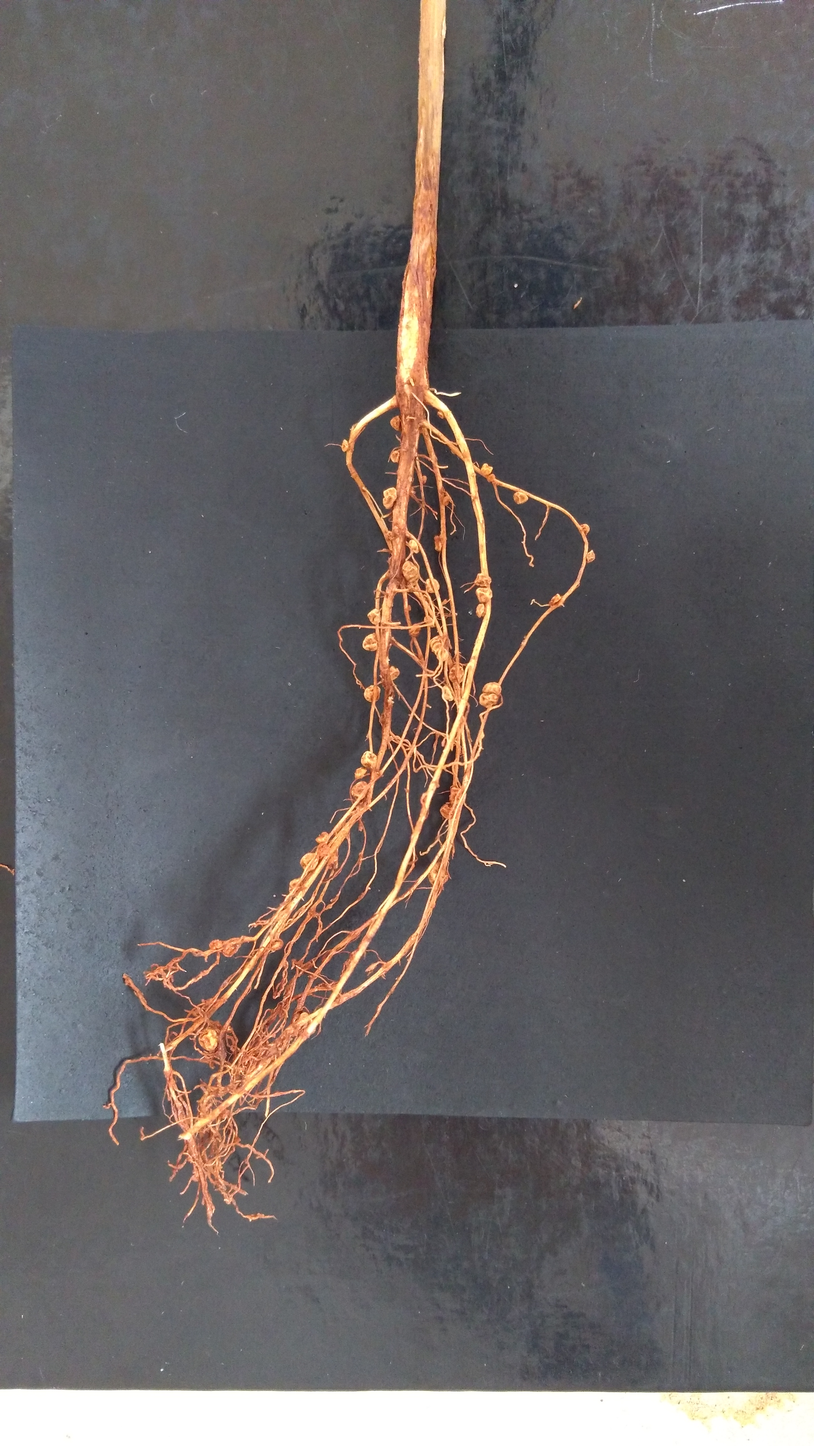nodule: (479, 681, 502, 706), (429, 636, 451, 662), (428, 861, 449, 886), (248, 1034, 269, 1059), (191, 1158, 211, 1183), (198, 1029, 218, 1051), (297, 1011, 315, 1035), (208, 1082, 235, 1098), (402, 561, 419, 586), (350, 781, 370, 802), (221, 938, 242, 957), (299, 853, 319, 872), (382, 487, 397, 509), (362, 633, 379, 652), (448, 665, 465, 684), (360, 750, 377, 769), (289, 878, 305, 898), (448, 786, 465, 804), (440, 802, 457, 819), (364, 684, 380, 702), (476, 587, 493, 603), (475, 573, 492, 587), (367, 608, 381, 625), (425, 578, 440, 593), (325, 852, 339, 868), (441, 684, 454, 701), (317, 842, 331, 857), (389, 415, 402, 431), (386, 526, 400, 540), (549, 593, 562, 607), (408, 539, 420, 554), (475, 603, 487, 618), (208, 939, 223, 951), (433, 534, 442, 553), (388, 666, 400, 680), (315, 831, 329, 843), (578, 523, 590, 536), (409, 623, 420, 637), (481, 463, 493, 475), (271, 938, 283, 950), (586, 549, 596, 563), (354, 768, 368, 778), (420, 594, 431, 606), (390, 450, 400, 463), (220, 1109, 231, 1119), (423, 615, 435, 624), (341, 439, 349, 452), (442, 495, 450, 506), (486, 473, 495, 482), (450, 446, 459, 455), (225, 1024, 234, 1033), (437, 410, 445, 419), (421, 475, 427, 484), (407, 604, 412, 612), (358, 825, 363, 832)
